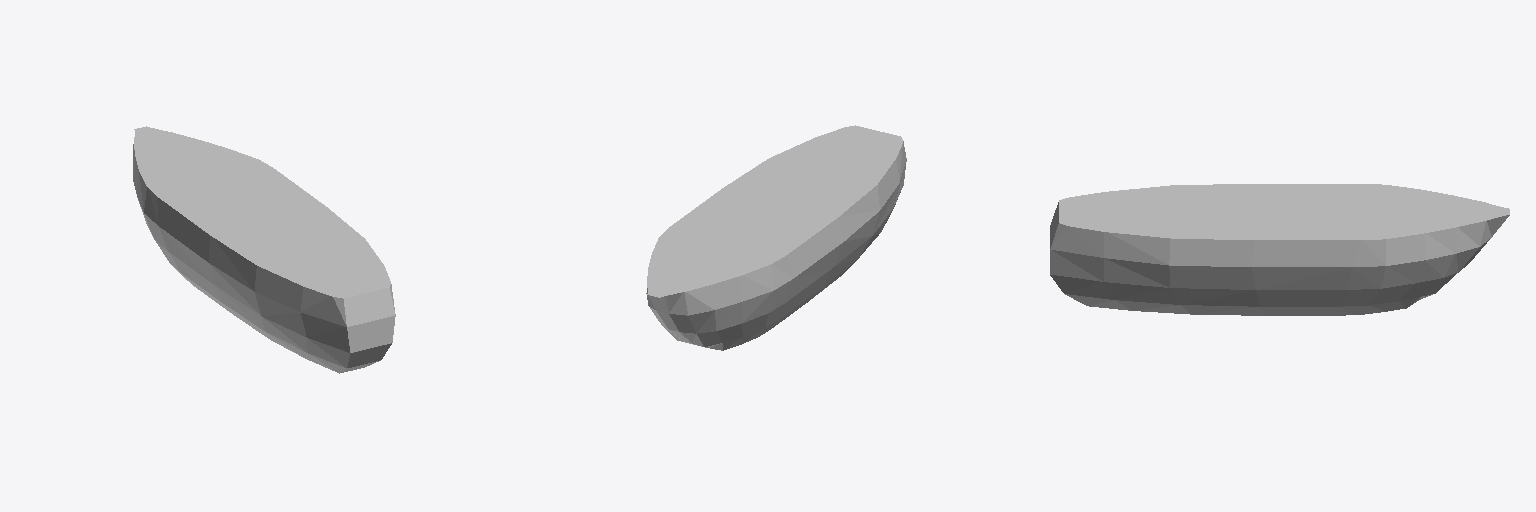
The model's file is CollisionTempShipHull.obj.
The picture shows the model from 3 angles: view 1: azimuth 30°, elevation 25°; view 2: azimuth 150°, elevation 25°; view 3: azimuth 270°, elevation 25°; orthographic projection.
Parts seen in each view (by area): view 1: col.tempshiphullCollision.000_Cube.015; view 2: col.tempshiphullCollision.000_Cube.015; view 3: col.tempshiphullCollision.000_Cube.015.
Boxes of the visible parts, box(x1,y1,x2,y2) form: col.tempshiphullCollision.000_Cube.015: box(133, 126, 395, 373); col.tempshiphullCollision.000_Cube.015: box(646, 125, 906, 350); col.tempshiphullCollision.000_Cube.015: box(1050, 184, 1509, 315).
Bounding box in the file's own units: 4.01 × 2.74 × 13.01.